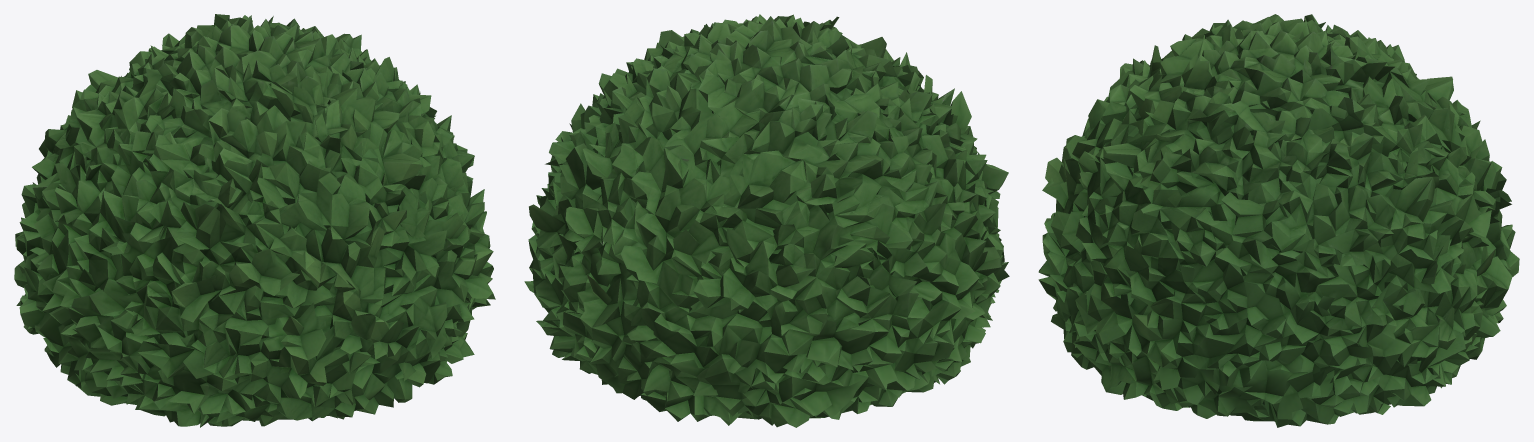
Rendered from shrub.glb.
3 renders of one model, left to right at view 1: azimuth 30°, elevation 25°; view 2: azimuth 150°, elevation 25°; view 3: azimuth 270°, elevation 25°, orthographic.
Bounding box in the file's own units: 1.9 × 1.36 × 1.88.
Materials: 1 (1 with a texture image).
